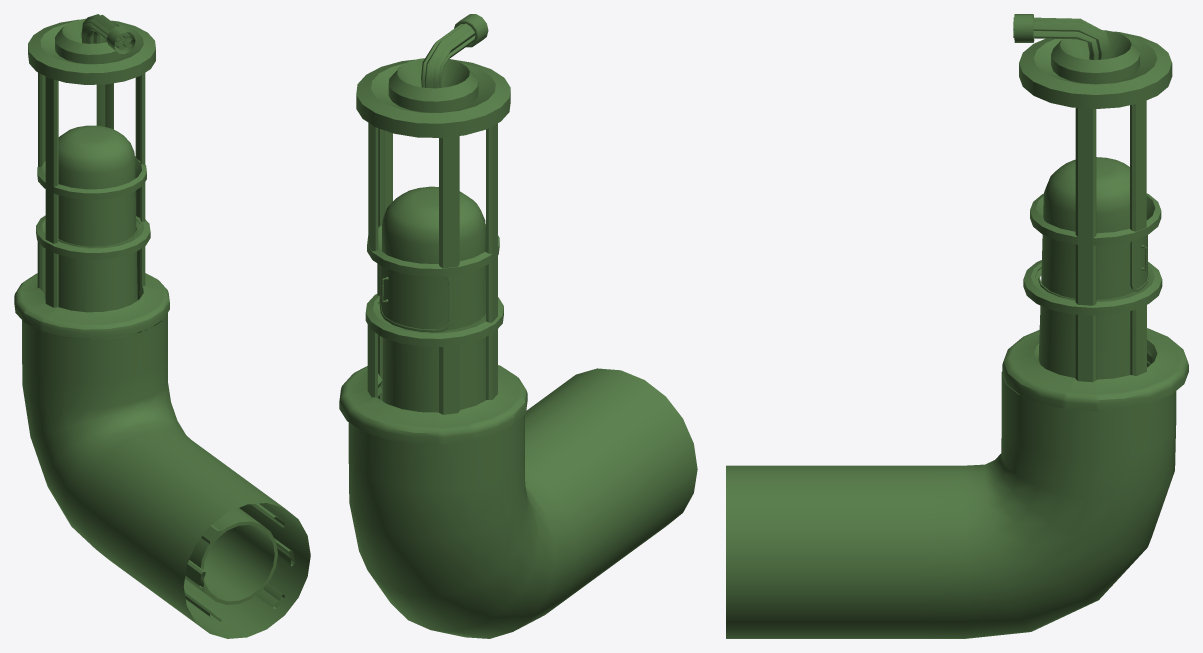
3 views of the same model, side by side, from view 1: azimuth 30°, elevation 25°; view 2: azimuth 150°, elevation 25°; view 3: azimuth 270°, elevation 25° (orthographic). The views are drawn at different scales.
Parts seen in each view (by area): view 1: TubeStructure_Geo; view 2: TubeStructure_Geo, TubeDoor_Geo; view 3: TubeStructure_Geo, TubeDoor_Geo.
Part boxes in pixels (left/top/right/bottom): TubeStructure_Geo: left=14, top=14, right=310, bottom=638; TubeStructure_Geo: left=339, top=14, right=697, bottom=638; TubeDoor_Geo: left=379, top=265, right=451, bottom=332; TubeStructure_Geo: left=726, top=14, right=1188, bottom=638; TubeDoor_Geo: left=1130, top=218, right=1148, bottom=291.
Bounding box in the file's own units: 156 × 568 × 387.
